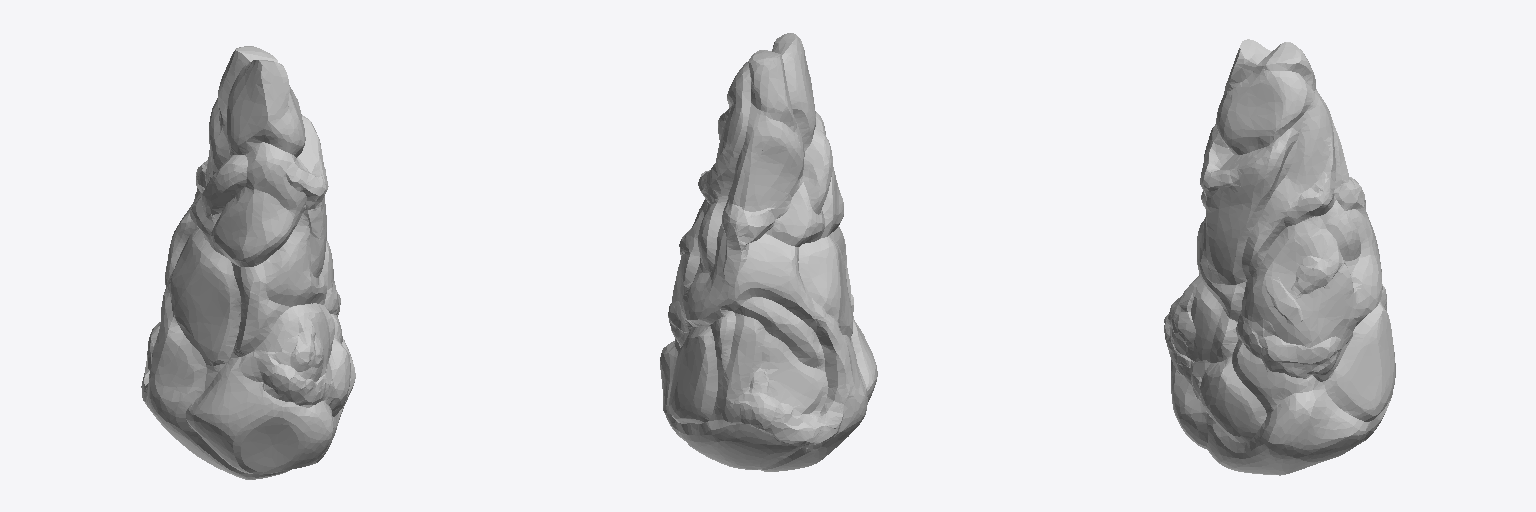
The model's file is Fantasy_Crystal.obj.
3 views of the same model, side by side, from view 1: azimuth 30°, elevation 25°; view 2: azimuth 150°, elevation 25°; view 3: azimuth 270°, elevation 25° (orthographic).
Visible parts, largest first — view 1: Group24314; view 2: Group24314; view 3: Group24314.
Part boxes in pixels (bbox=[...]): Group24314: bbox=[141, 46, 355, 479]; Group24314: bbox=[660, 33, 877, 471]; Group24314: bbox=[1164, 39, 1395, 475].
Bounding box in the file's own units: 1.22 × 2.52 × 1.25.